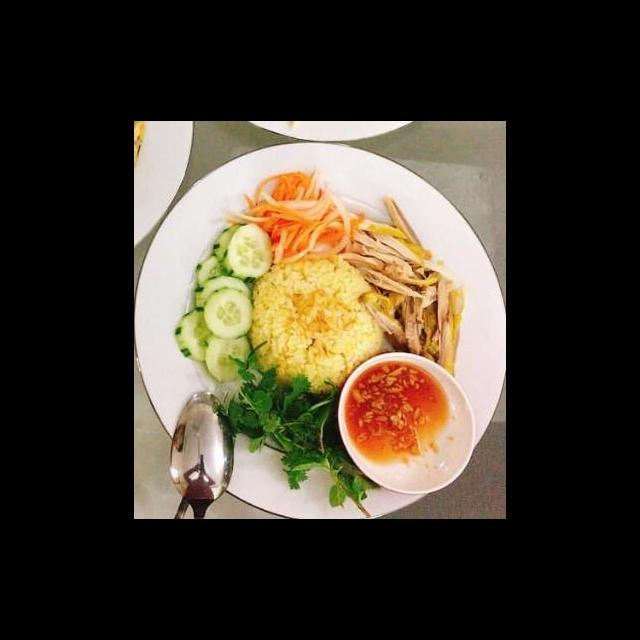com: (244, 250, 388, 398)
com ga: (138, 163, 506, 519)
thit ga: (336, 192, 468, 385)
